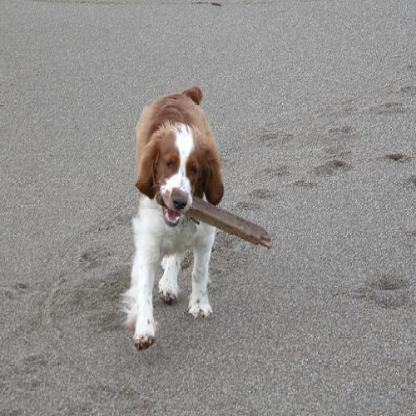Welsh_springer_spaniel: (119, 83, 224, 351)
